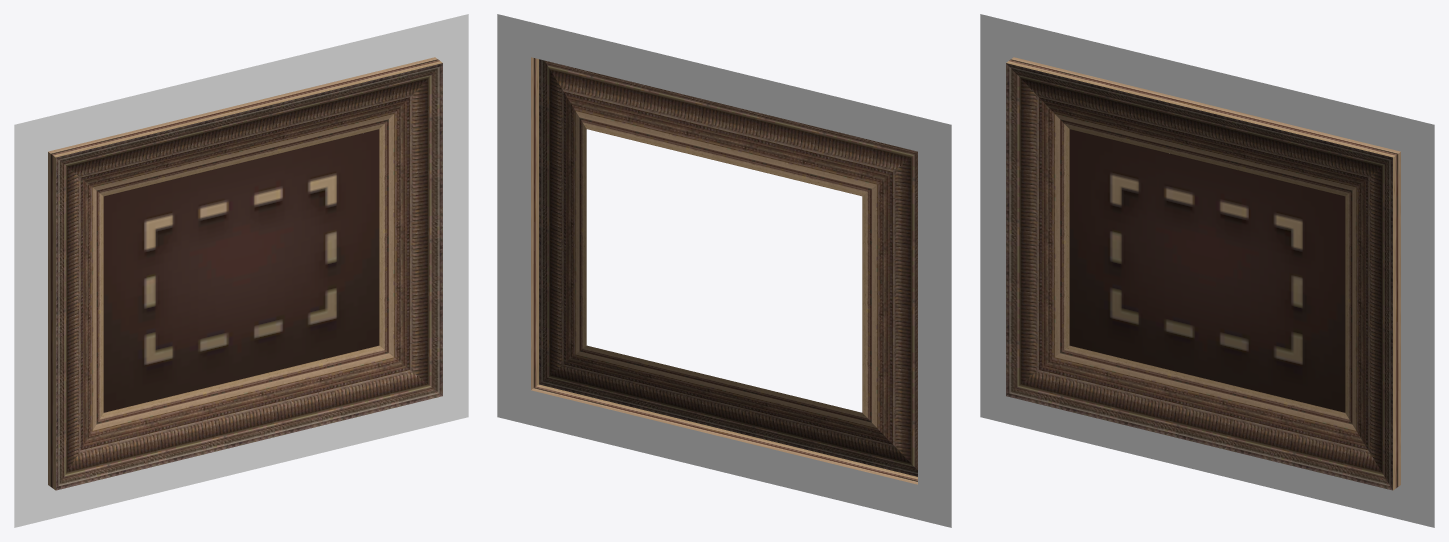
Rendered from Frame_03_Small.dae.
3 views of the same model, side by side, from view 1: azimuth 30°, elevation 25°; view 2: azimuth 150°, elevation 25°; view 3: azimuth 330°, elevation 25° (orthographic).
Parts seen in each view (by area): view 1: Frame_03_Small (×3); view 2: Frame_03_Small (×2); view 3: Frame_03_Small (×3).
Part boxes in pixels (x1=…): Frame_03_Small (×3): x1=14, y1=14, x2=468, y2=527; Frame_03_Small (×2): x1=497, y1=14, x2=951, y2=527; Frame_03_Small (×3): x1=980, y1=14, x2=1434, y2=527.
Size of the model in its own units: 272 by 231 by 8.27.
3 materials, 3 textured.
